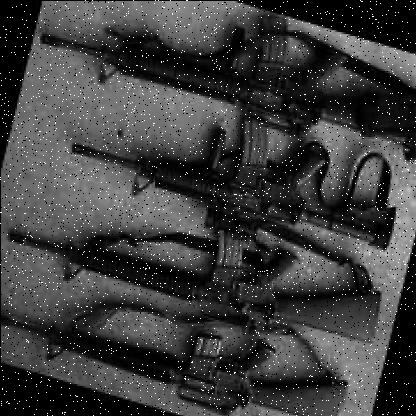rifle: (0, 167, 395, 370), (34, 66, 416, 268), (42, 0, 416, 165), (0, 270, 356, 416)
